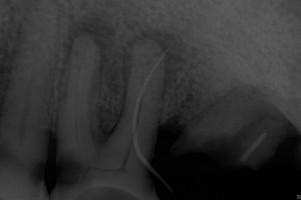Dental Caries: (63, 15, 188, 144)
